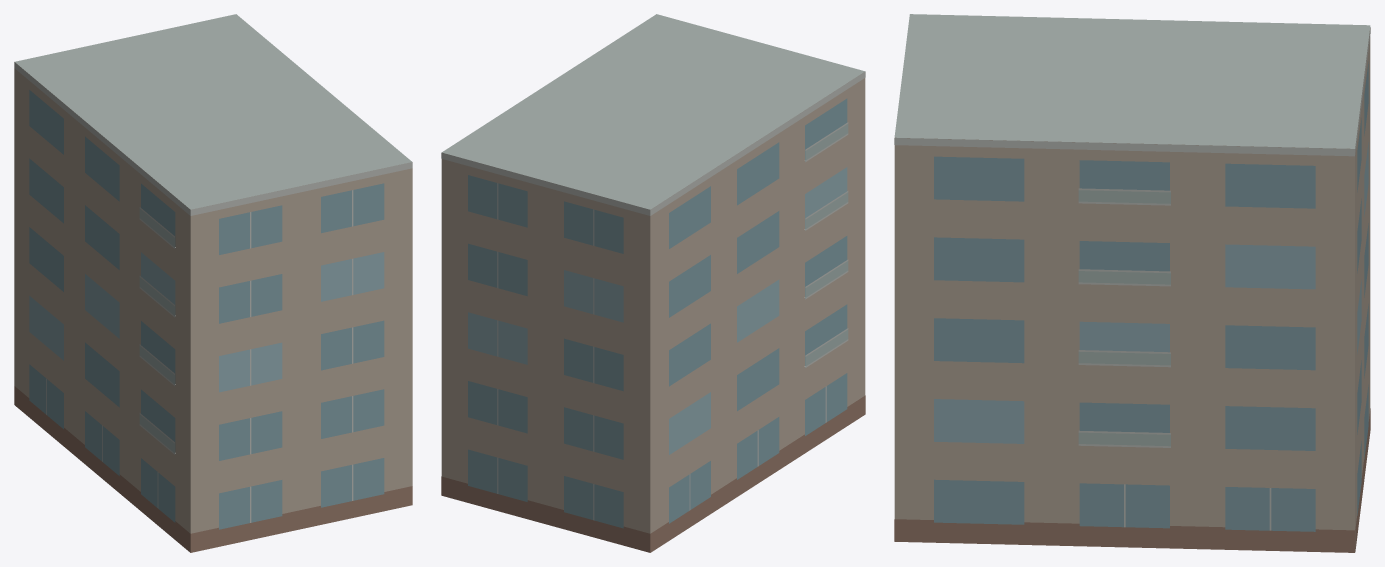
The model's file is survey-upis-32892448.glb.
The picture shows the model from 3 angles, left to right: view 1: azimuth 30°, elevation 25°; view 2: azimuth 150°, elevation 25°; view 3: azimuth 270°, elevation 25°; orthographic projection. The views are drawn at different scales.
Parts seen in each view (by area): view 1: survey-upis-32892448.tmp; view 2: survey-upis-32892448.tmp; view 3: survey-upis-32892448.tmp.
Part boxes in pixels (x1,y1,x2,y2): survey-upis-32892448.tmp: [14, 14, 412, 552]; survey-upis-32892448.tmp: [441, 14, 865, 552]; survey-upis-32892448.tmp: [894, 14, 1370, 552].
Bounding box in the file's own units: 9.53 × 13.3 × 14.22.
